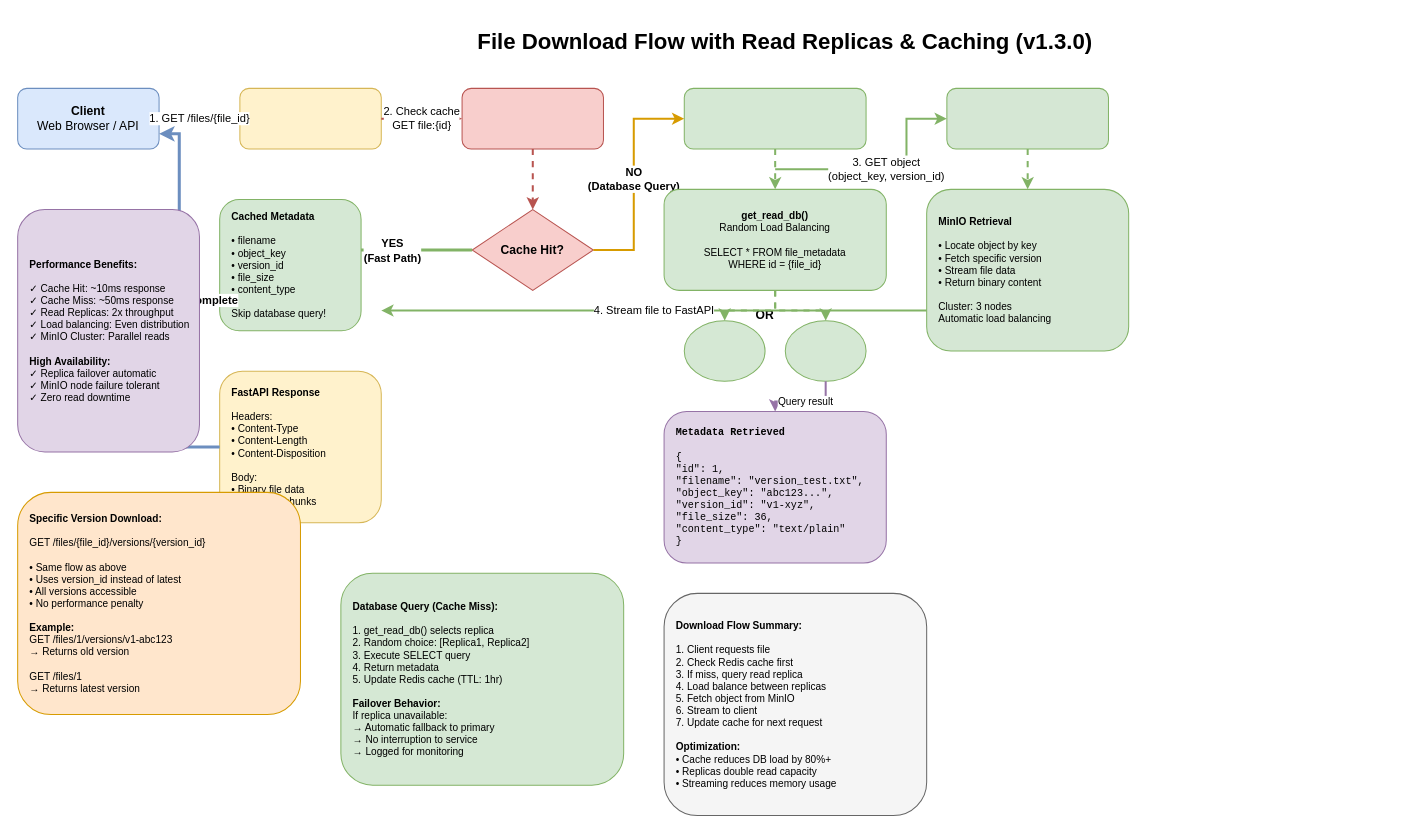
Image size: 1409x833. Some labels were removed from this diagram. The centre of each missing label's shape, as x and y in pixels:
FastAPI Application Server: the point at 310,118
MinIO Cluster Object Storage: the point at 1027,118
PostgreSQL Replicas Read Load Balancing: the point at 774,118
Redis Cache Layer: the point at 532,118
Replica 1 :5433: the point at 724,350
Replica 2 :5434: the point at 825,350
